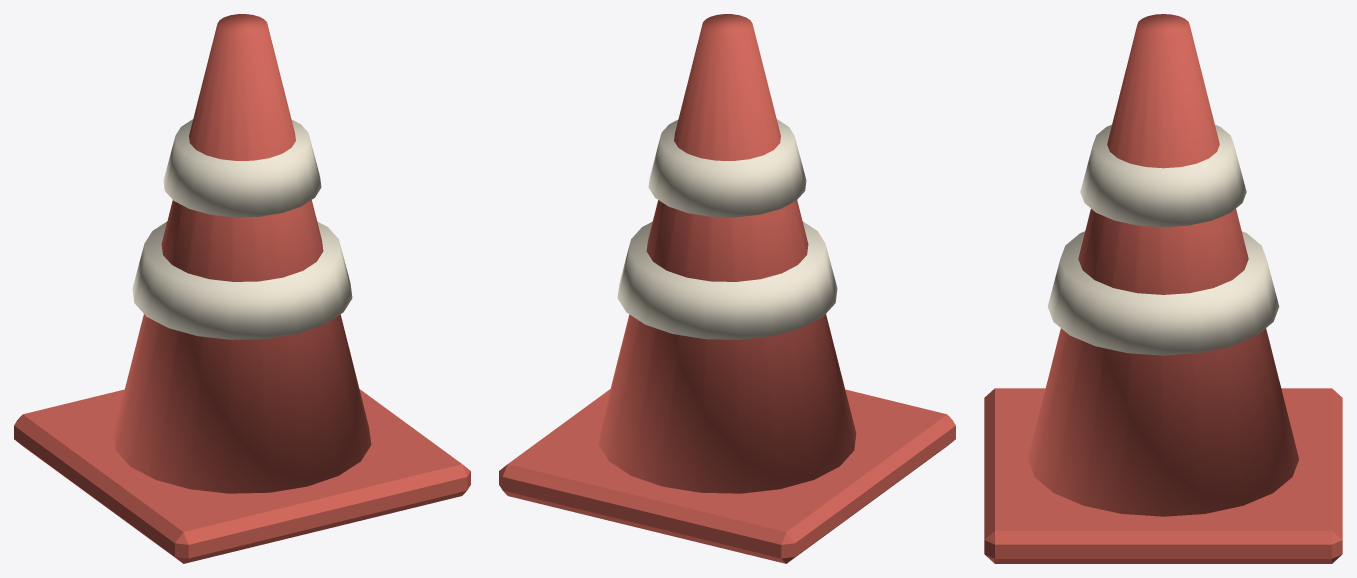
Rendered from Garage_Cone.glb.
3 views of the same model, side by side, from view 1: azimuth 30°, elevation 25°; view 2: azimuth 150°, elevation 25°; view 3: azimuth 270°, elevation 25° (orthographic). The views are drawn at different scales.
Parts seen in each view (by area): view 1: Garage_Cone; view 2: Garage_Cone; view 3: Garage_Cone.
Boxes of the visible parts, <box> form: Garage_Cone: <box>14,14,470,563</box>; Garage_Cone: <box>499,14,955,563</box>; Garage_Cone: <box>984,14,1342,563</box>.
Size of the model in its own units: 0.34 by 0.49 by 0.34.
